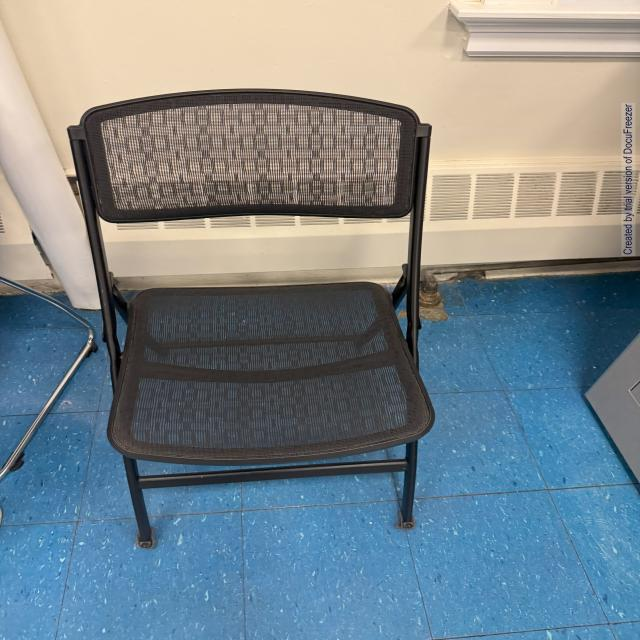chair: (60, 81, 470, 572)
